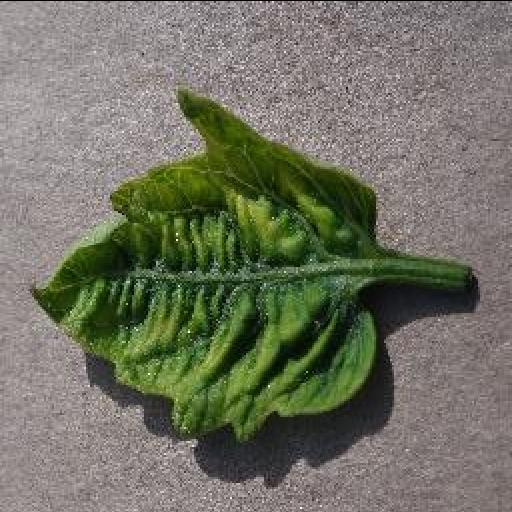disease_tomato: (28, 86, 380, 446)
